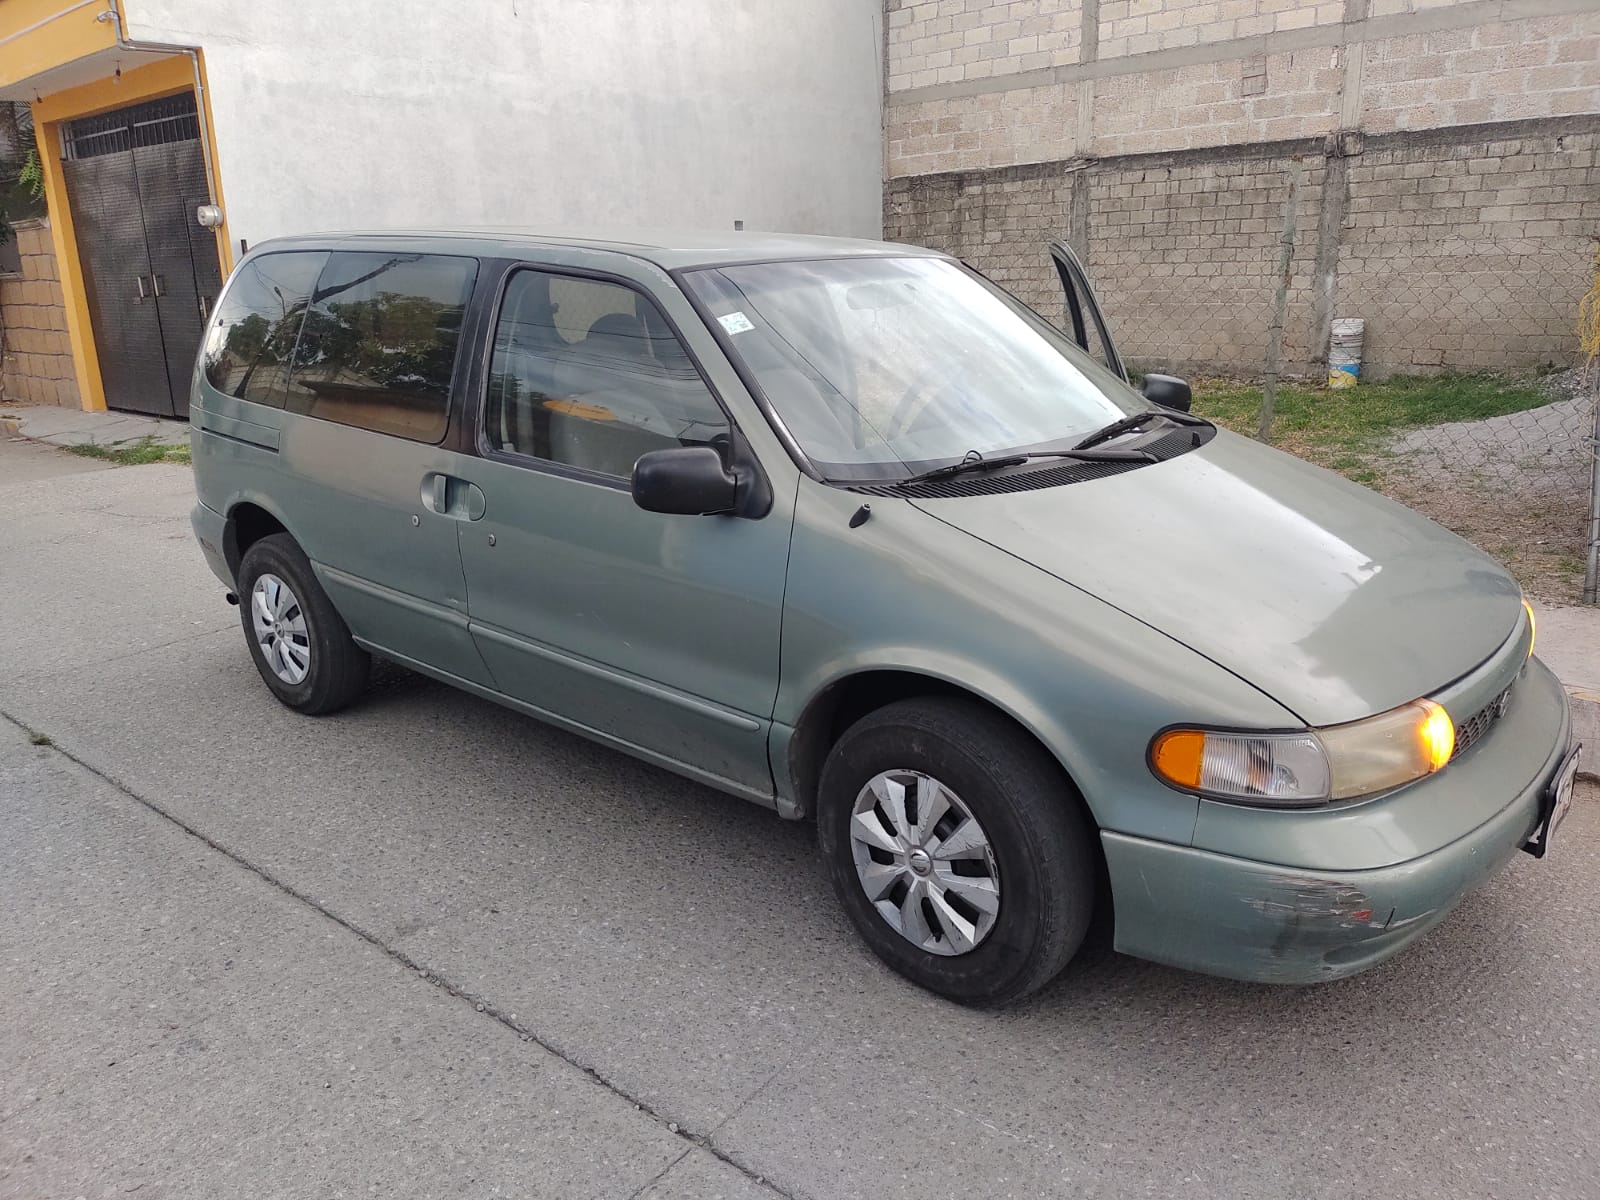Auto: (181, 224, 1587, 1020)
